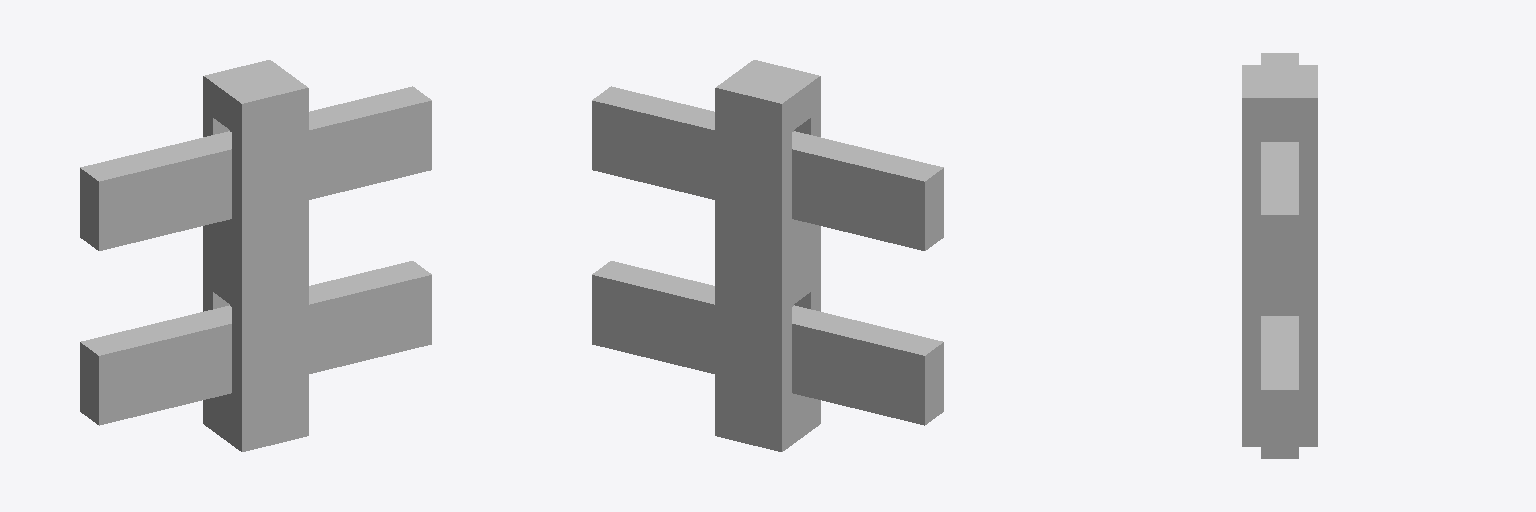
Rendered from Wood Fence with Pole.obj.
3 views of the same model, side by side, from view 1: azimuth 30°, elevation 25°; view 2: azimuth 150°, elevation 25°; view 3: azimuth 270°, elevation 25° (orthographic).
Parts seen in each view (by area): view 1: object 1; view 2: object 1; view 3: object 1.
Boxes of the visible parts, x1=… form: object 1: x1=80, y1=60, x2=431, y2=451; object 1: x1=592, y1=60, x2=943, y2=451; object 1: x1=1242, y1=53, x2=1317, y2=458.
Size of the model in its own units: 2 by 2 by 0.4.